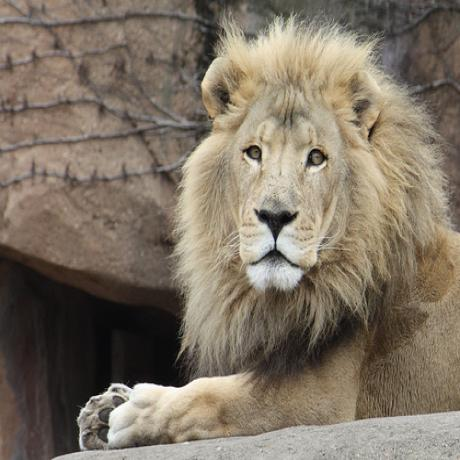Lion: (77, 21, 460, 443)
